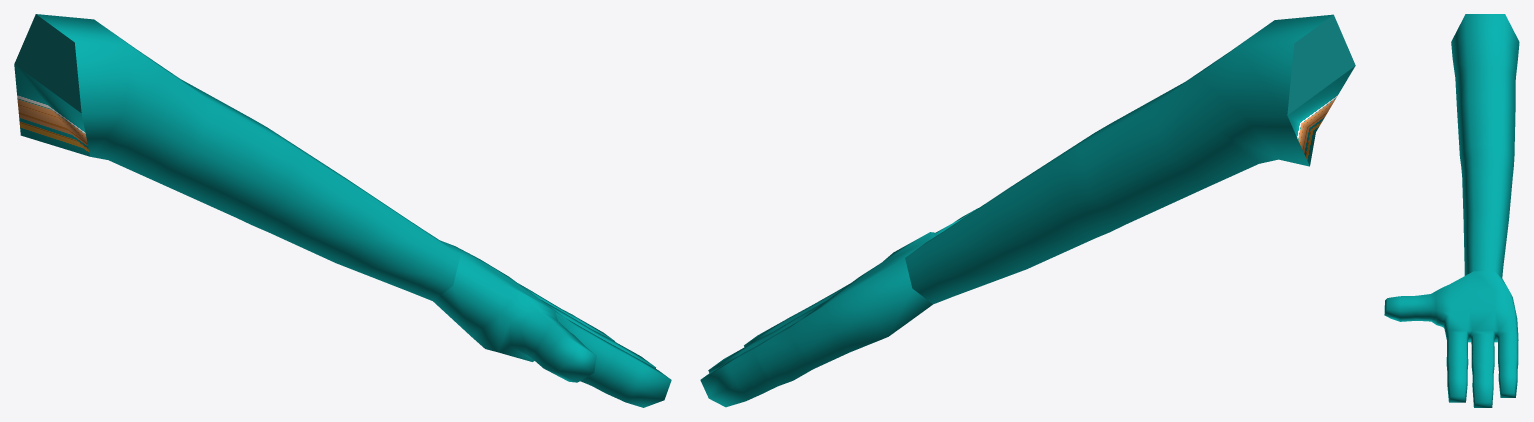
Rendered from brazoIzquierdo.obj.
3 renders of one model, left to right at view 1: azimuth 30°, elevation 25°; view 2: azimuth 150°, elevation 25°; view 3: azimuth 270°, elevation 25°, orthographic. The views are drawn at different scales.
Visible parts, largest first — view 1: BrazoIzquierdo_Mesh_0119.rip_noesis_meshnode_0000_Mesh_0119.rip.; view 2: BrazoIzquierdo_Mesh_0119.rip_noesis_meshnode_0000_Mesh_0119.rip.; view 3: BrazoIzquierdo_Mesh_0119.rip_noesis_meshnode_0000_Mesh_0119.rip..
Part boxes in pixels (left/top/right/bottom): BrazoIzquierdo_Mesh_0119.rip_noesis_meshnode_0000_Mesh_0119.rip.: left=14, top=14, right=671, bottom=407; BrazoIzquierdo_Mesh_0119.rip_noesis_meshnode_0000_Mesh_0119.rip.: left=700, top=14, right=1355, bottom=407; BrazoIzquierdo_Mesh_0119.rip_noesis_meshnode_0000_Mesh_0119.rip.: left=1384, top=14, right=1519, bottom=407.
Bounding box in the file's own units: 0.4013 × 0.3156 × 0.1525.
